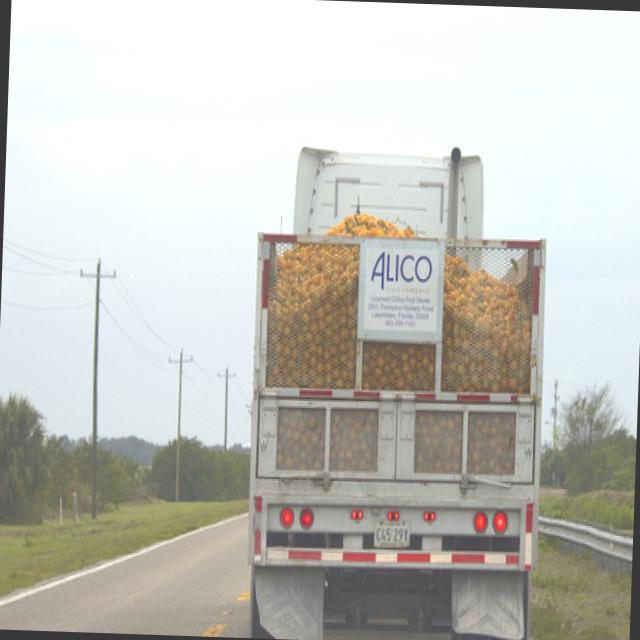Vehicle: (240, 137, 550, 640)
